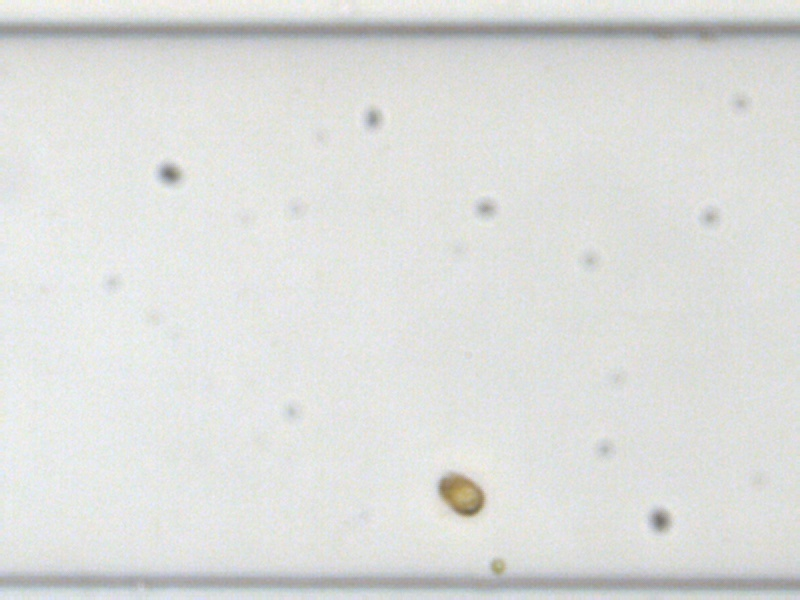Chlorella: (489, 556, 505, 574)
Effrenium: (435, 471, 485, 518)
